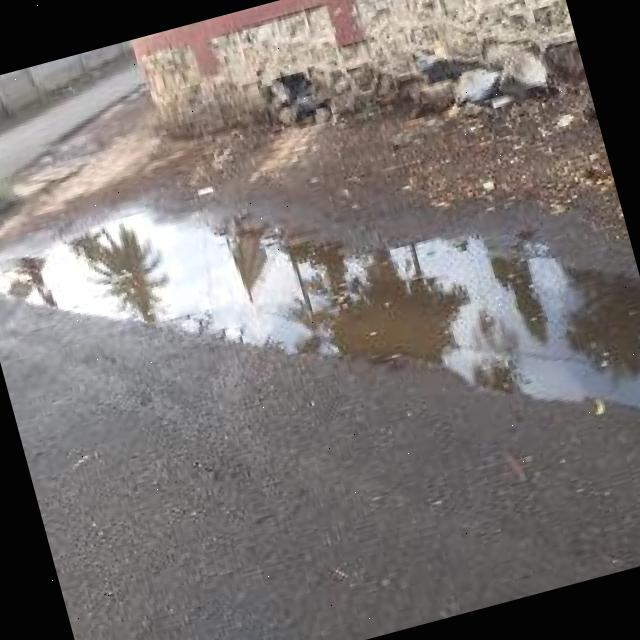stagnation: (0, 102, 640, 477)
